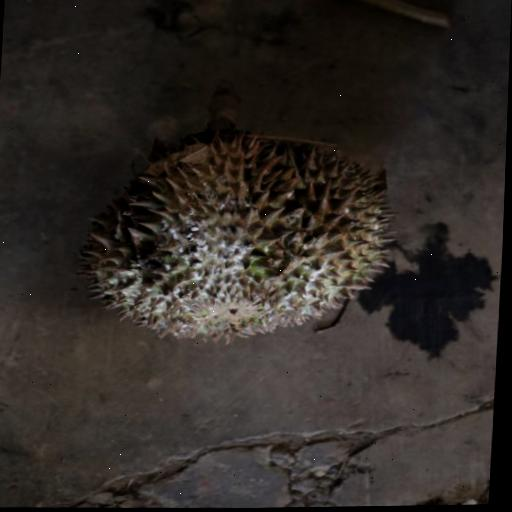mold: (55, 74, 436, 365)
